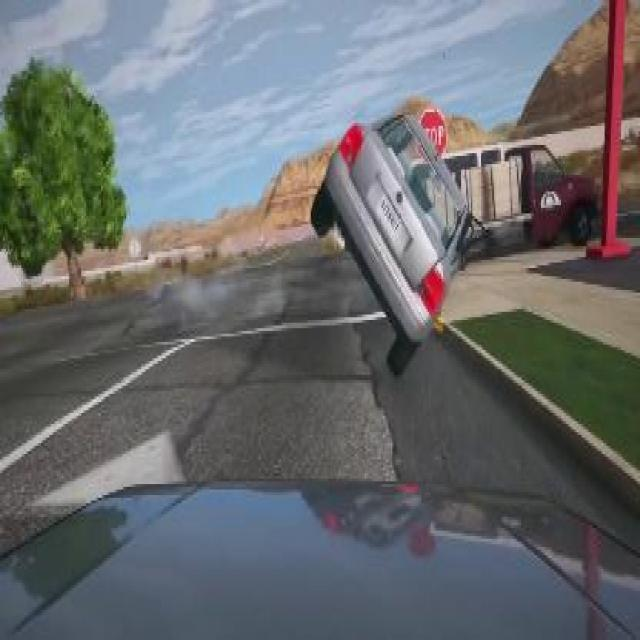accident: (305, 96, 477, 383)
